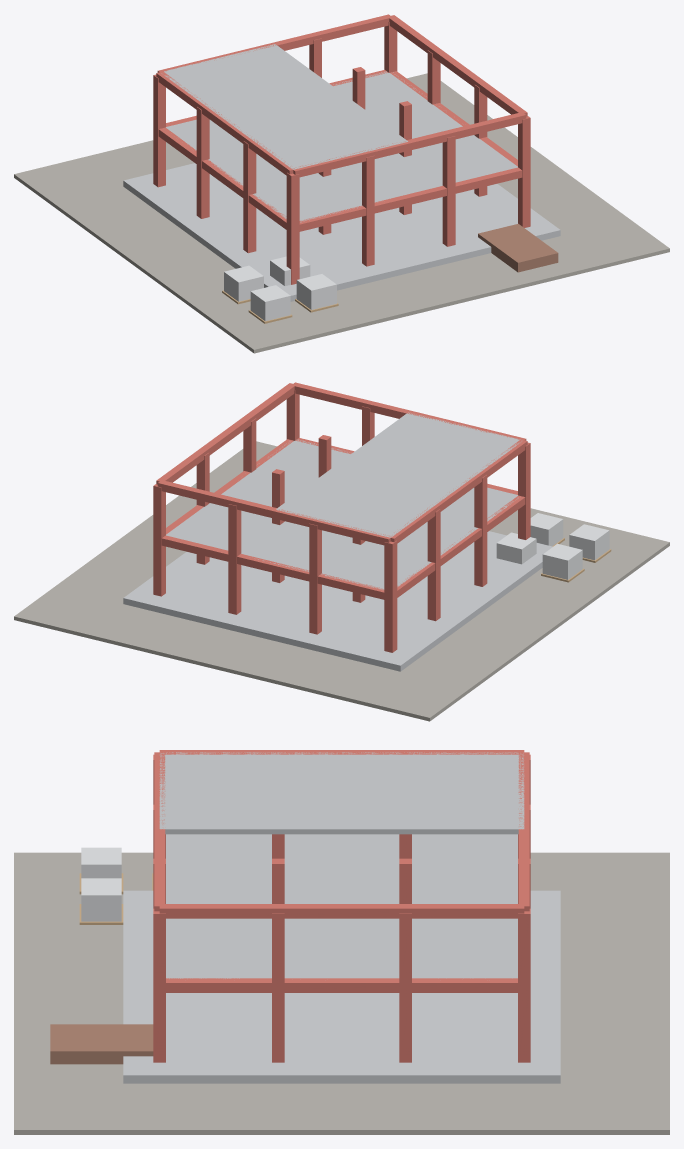
Rendered from commercial_construction_site.glb.
3 views of the same model, one above another, from view 1: azimuth 30°, elevation 25°; view 2: azimuth 150°, elevation 25°; view 3: azimuth 270°, elevation 25° (orthographic). The views are drawn at different scales.
Visible parts, largest first — view 1: CommercialSiteYard, RetailGroundSlab, Level3DeckPartial, Level2Deck, GirderX_1_10, GirderX_0_10, RebarStagingCages, GirderZ_1_10, GirderZ_1_-10, GirderX_1_-10, GirderZ_0_-10, AACBlocks_-15_12 (+23 smaller); view 2: CommercialSiteYard, RetailGroundSlab, Level3DeckPartial, Level2Deck, GirderX_1_-10, GirderX_0_-10, GirderZ_1_10, GirderX_1_10, GirderZ_1_-10, GirderZ_0_-10, AACBlocks_-15_8, AACBlocks_-15_12 (+21 smaller); view 3: CommercialSiteYard, Level2Deck, RetailGroundSlab, Level3DeckPartial, GirderZ_1_10, GirderZ_0_10, RebarStagingCages, GirderZ_1_-10, AACBlocks_-11_12, GirderX_1_-10, GirderX_1_10, AACBlocks_-15_12 (+10 smaller).
Boxes of the visible parts, box(x1,y1,x2,y2) form: CommercialSiteYard: box(14, 73, 669, 353); RetailGroundSlab: box(123, 163, 560, 301); Level3DeckPartial: box(161, 44, 407, 169); Level2Deck: box(166, 71, 517, 222); GirderX_1_10: box(292, 113, 526, 177); GirderX_0_10: box(299, 167, 522, 231); RebarStagingCages: box(478, 223, 558, 272); GirderZ_1_10: box(388, 15, 527, 116); GirderZ_1_-10: box(156, 71, 294, 175); GirderX_1_-10: box(157, 14, 391, 72); GirderZ_0_-10: box(158, 127, 286, 229); AACBlocks_-15_12: box(250, 285, 290, 321); CommercialSiteYard: box(14, 441, 669, 721); RetailGroundSlab: box(123, 531, 552, 671); Level3DeckPartial: box(276, 412, 521, 537); Level2Deck: box(166, 439, 518, 589); GirderX_1_-10: box(157, 481, 390, 545); GirderX_0_-10: box(161, 535, 384, 599); GirderZ_1_10: box(156, 383, 295, 484); GirderX_1_10: box(292, 382, 526, 440); GirderZ_1_-10: box(390, 439, 527, 543); GirderZ_0_-10: box(397, 495, 525, 597); AACBlocks_-15_8: box(542, 543, 582, 579); AACBlocks_-15_12: box(569, 524, 609, 560); CommercialSiteYard: box(14, 852, 669, 1134); Level2Deck: box(166, 834, 517, 978); RetailGroundSlab: box(123, 890, 560, 1083); Level3DeckPartial: box(159, 752, 524, 834); GirderZ_1_10: box(159, 904, 524, 918); GirderZ_0_10: box(166, 978, 517, 992); RebarStagingCages: box(50, 1024, 153, 1064); GirderZ_1_-10: box(159, 750, 524, 754); AACBlocks_-11_12: box(81, 878, 121, 921); GirderX_1_-10: box(518, 752, 529, 911); GirderX_1_10: box(154, 752, 165, 911); AACBlocks_-15_12: box(81, 847, 121, 878).
Bounding box in the file's own units: 36 × 10.1 × 36.
